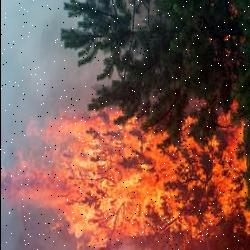fire: (0, 97, 250, 250)
